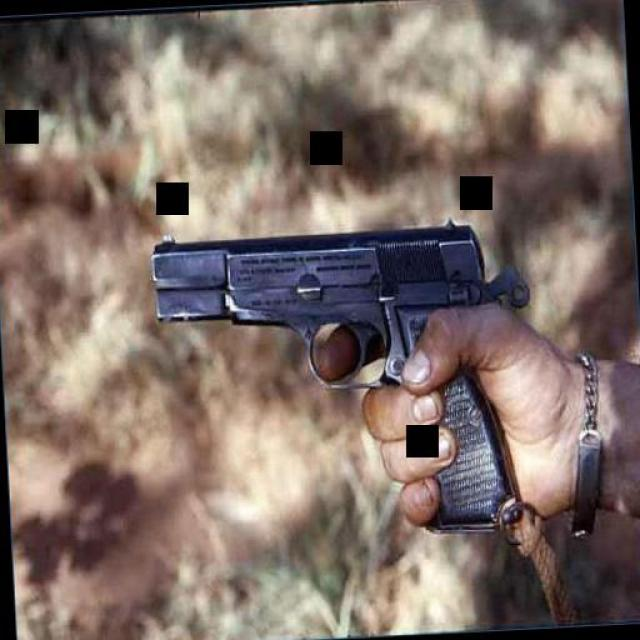gun: (146, 211, 536, 554)
